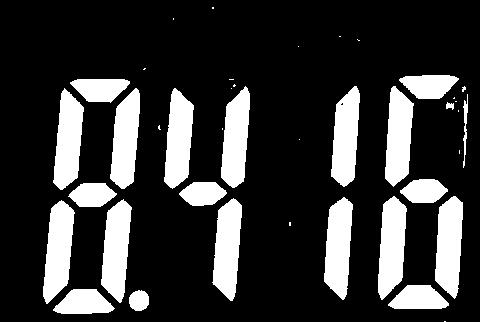1: (326, 88, 369, 300)
4: (162, 88, 260, 302)
6: (376, 71, 467, 313)
8: (41, 79, 143, 311)
dot: (129, 287, 150, 313)
